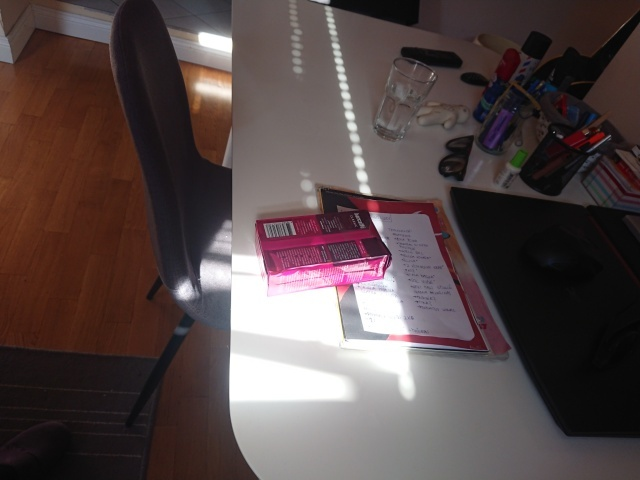Barcaffe Classic Original 225g: (252, 208, 394, 300)
